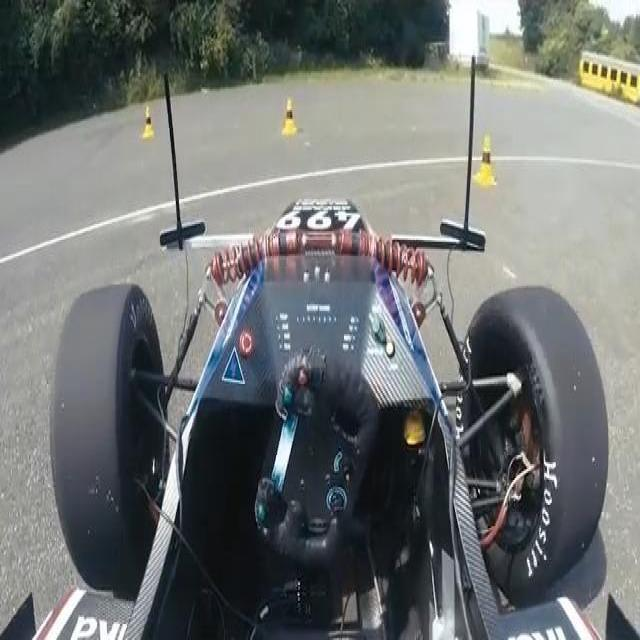yellow_cone: (473, 135, 498, 187), (282, 98, 298, 136), (141, 107, 154, 139)
